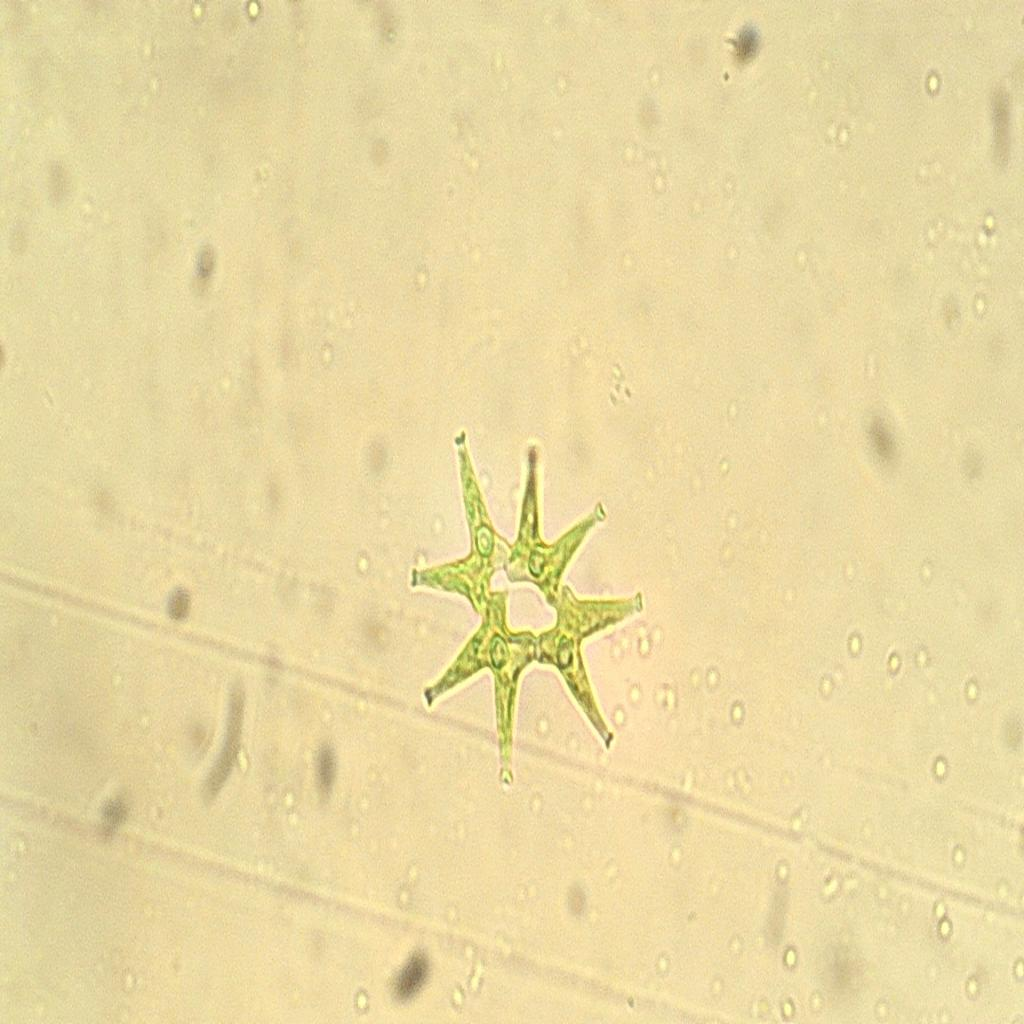Pediastrum_75FO: (396, 419, 651, 815)
